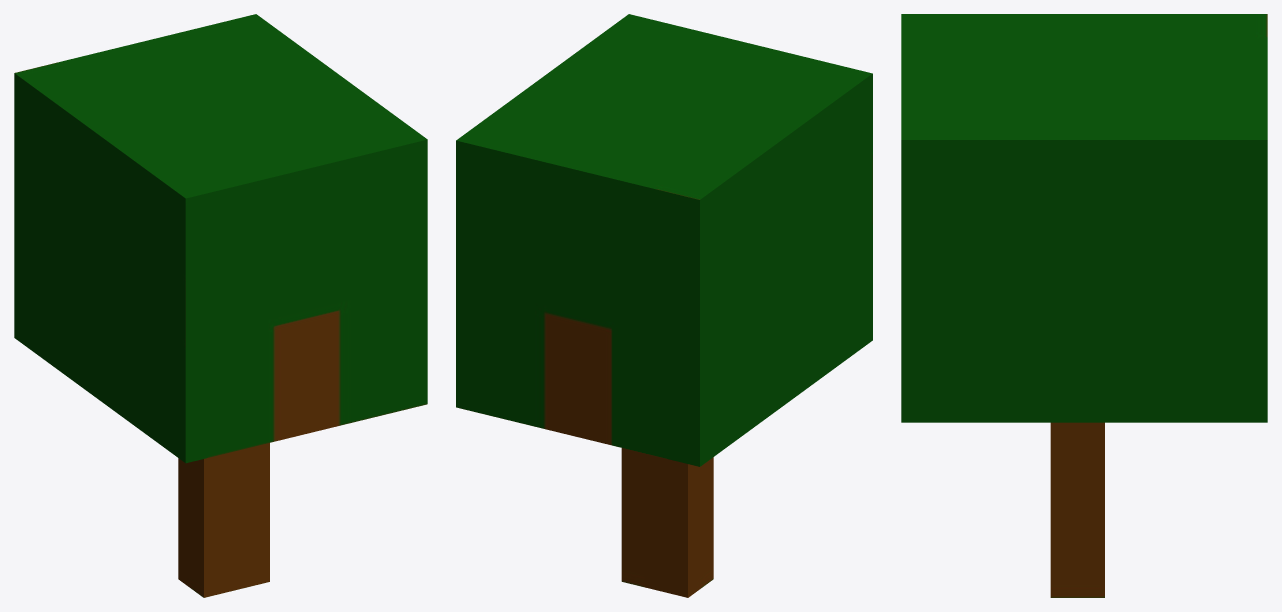
The model's file is Tree.fbx.
3 views of the same model, side by side, from view 1: azimuth 30°, elevation 25°; view 2: azimuth 150°, elevation 25°; view 3: azimuth 270°, elevation 25° (orthographic). The views are drawn at different scales.
Parts seen in each view (by area): view 1: Tree; view 2: Tree; view 3: Tree.
Boxes of the visible parts, box(x1,y1,x2,y2) form: Tree: box(14, 14, 427, 597); Tree: box(456, 14, 872, 597); Tree: box(901, 14, 1267, 597).
Size of the model in its own units: 220 by 410 by 270.
